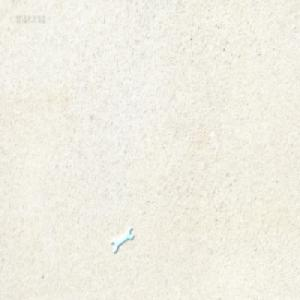Wrench: (111, 225, 134, 254)
